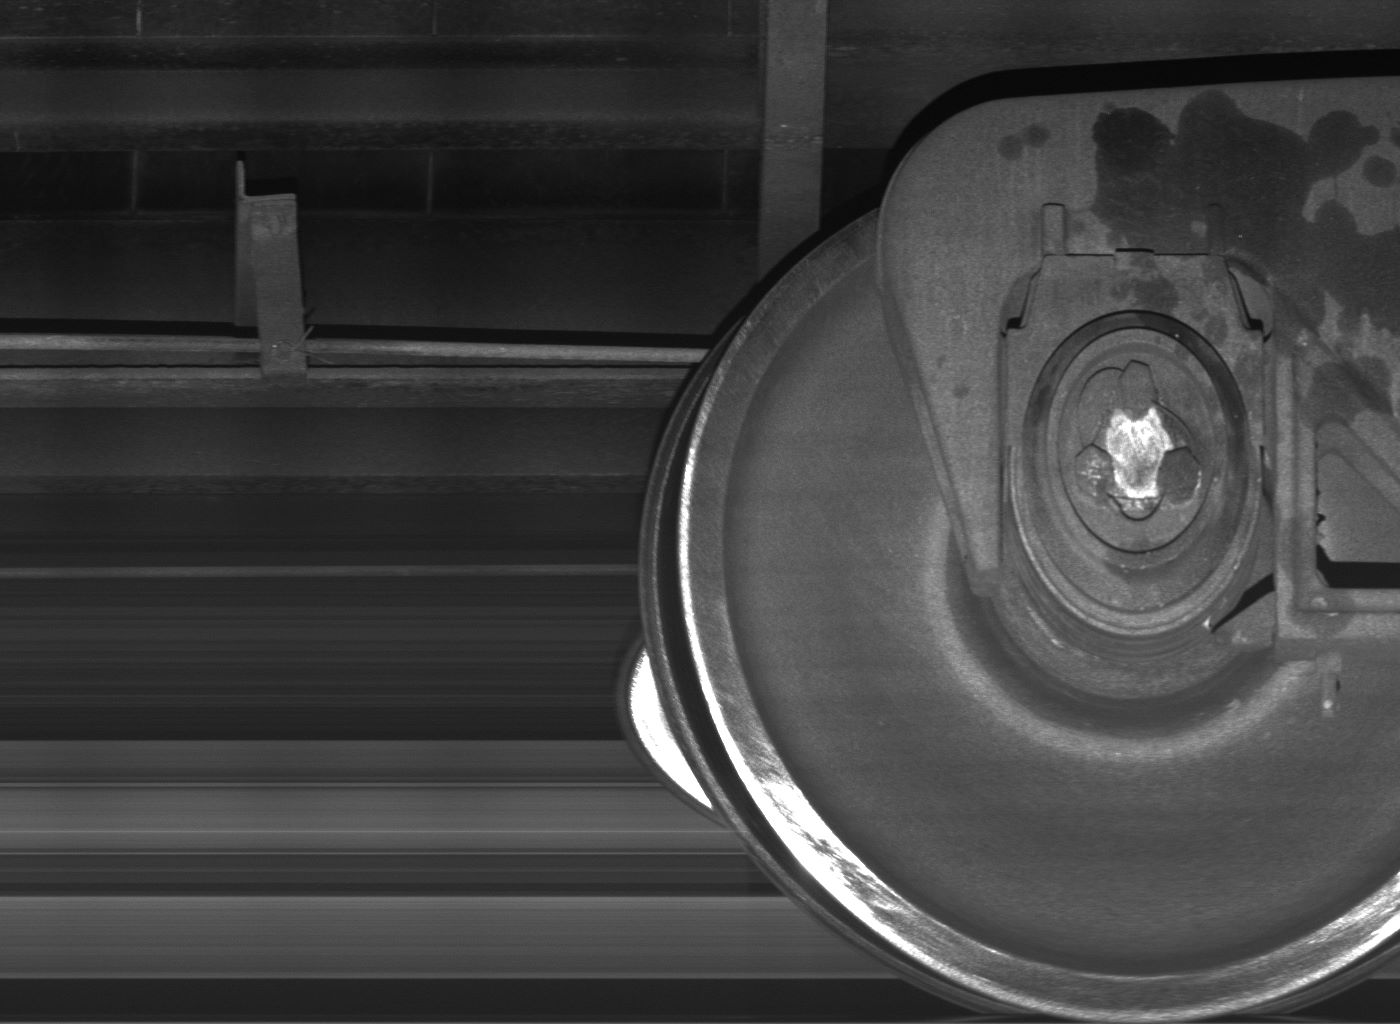normal: (232, 159, 308, 380)
